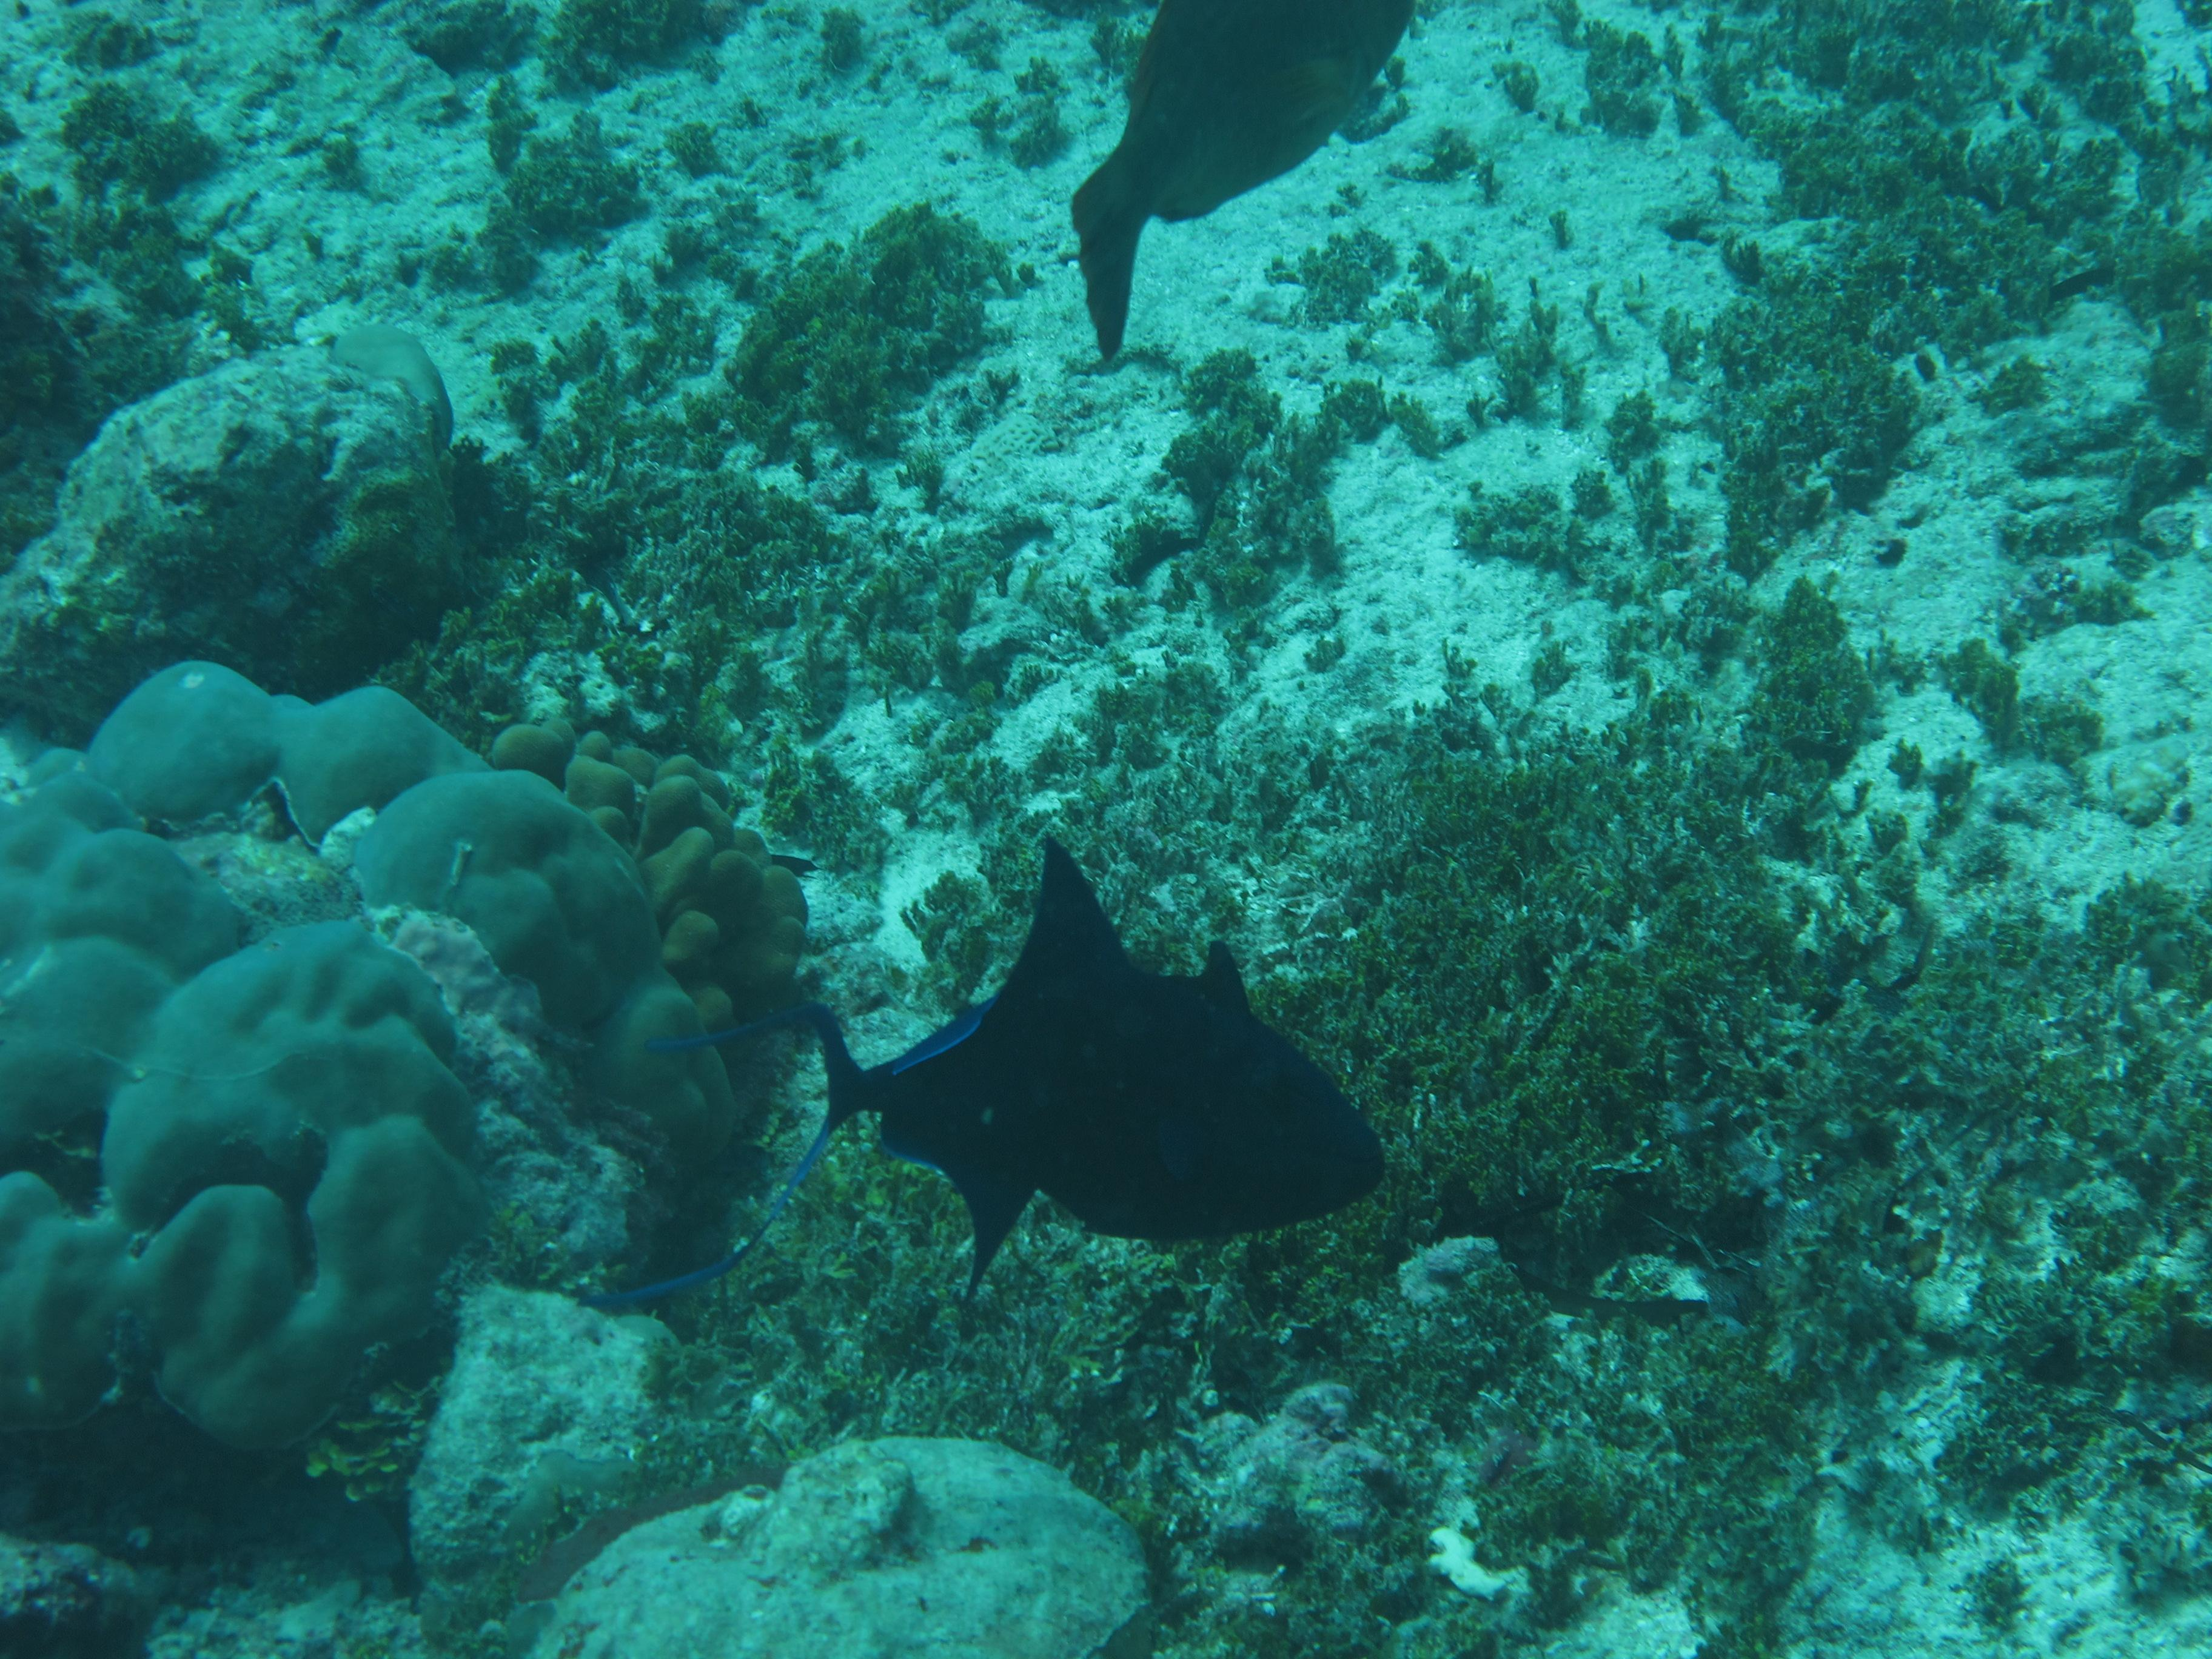Odonus niger: (578, 791, 1432, 1410)
